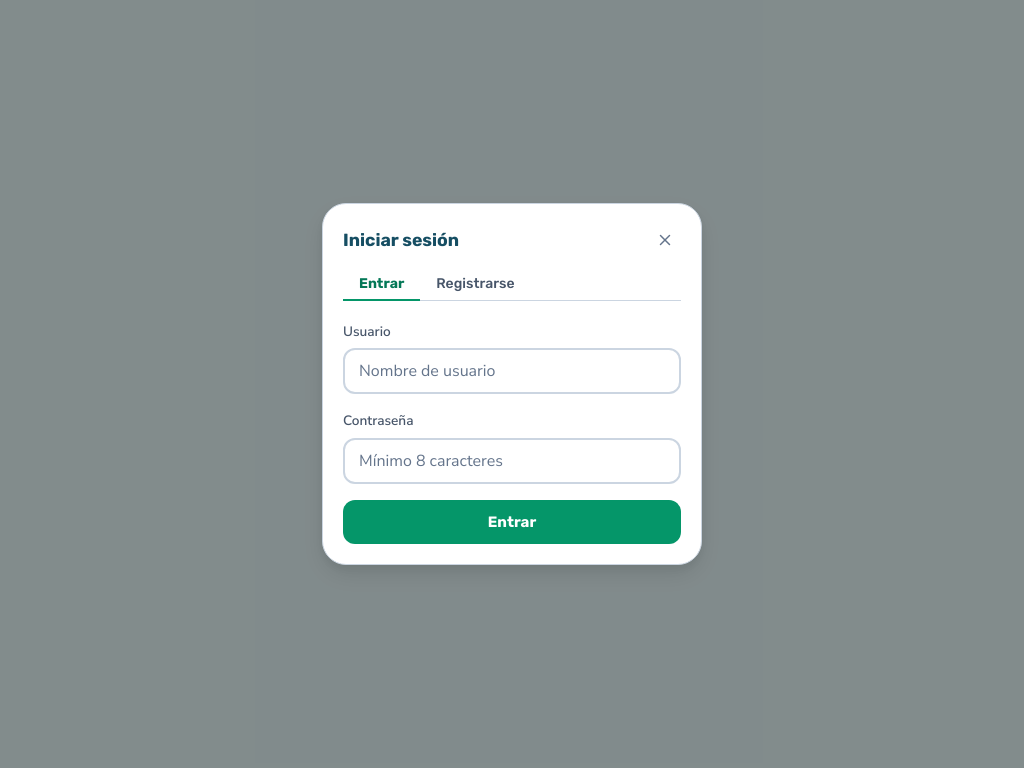
it: LoginModal › disables the button while loading
Type "carlos" into the field labelled "Usuario" at (512, 371), box [343,348,681,394]
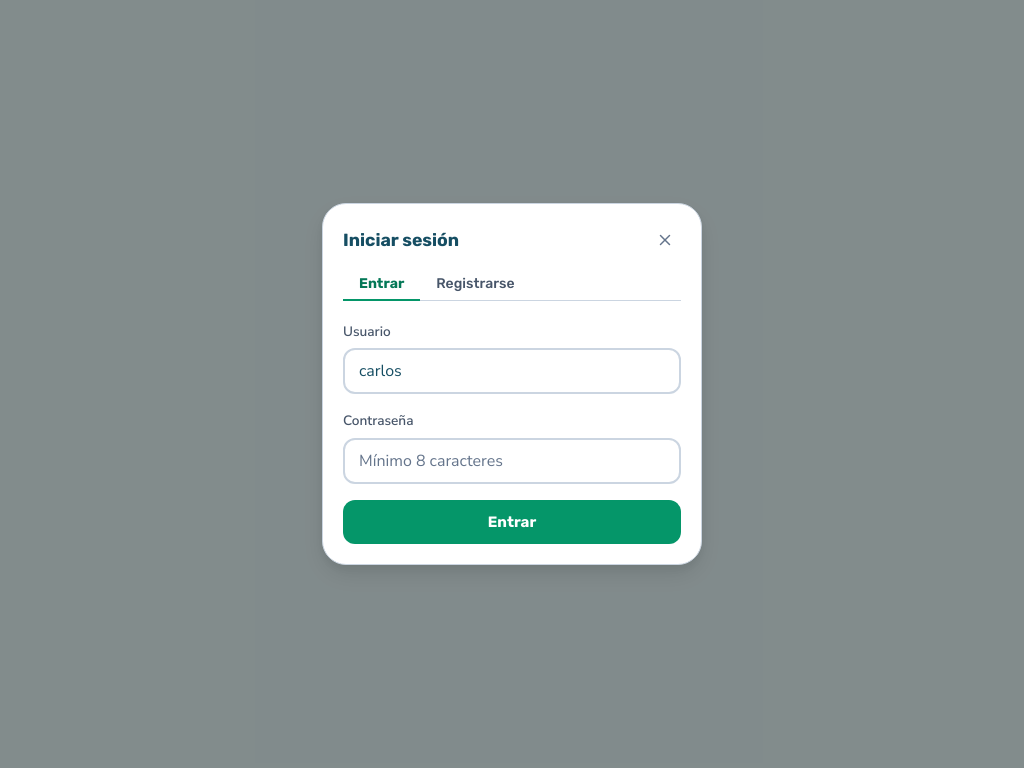
Type "password123" into the password field labelled "Contraseña" at (512, 461), box [343,438,681,484]
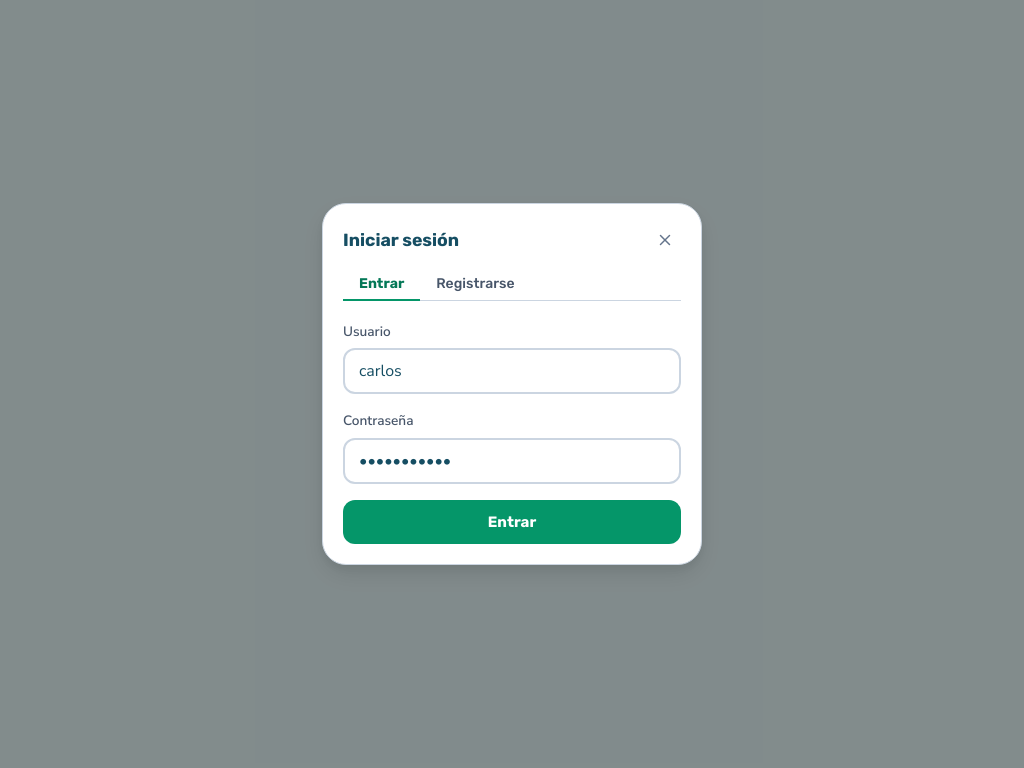
Click the submit button at (512, 522), box [343,500,681,544]
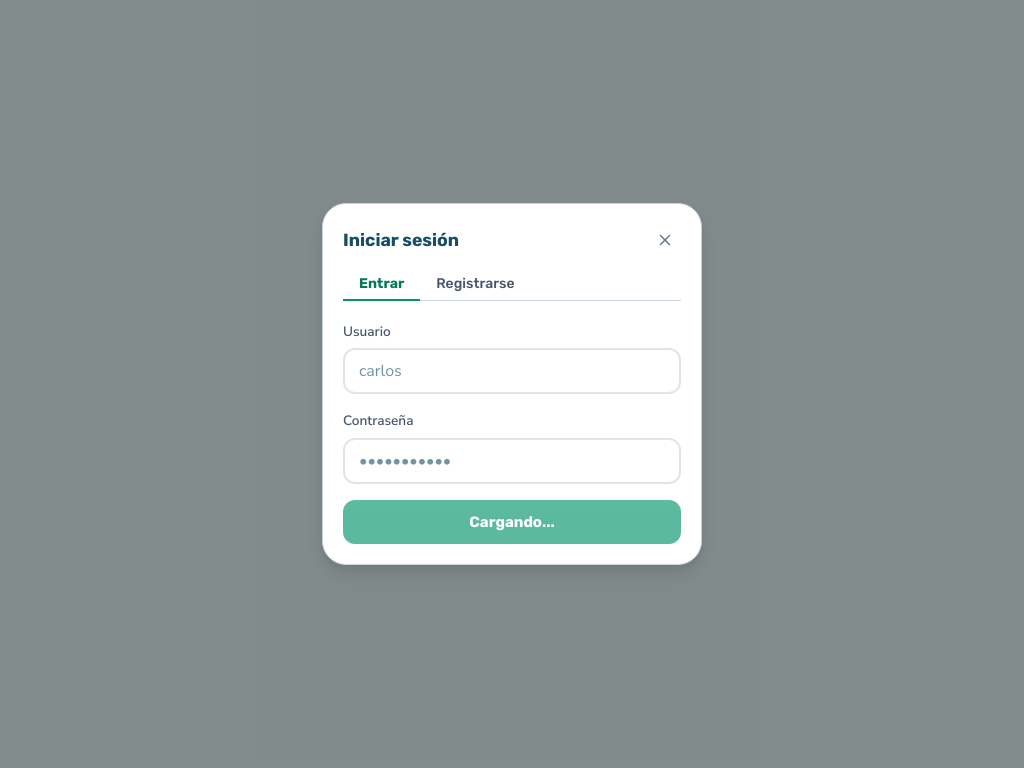
Expected: the submit button is disabled, [343,500,681,544]
